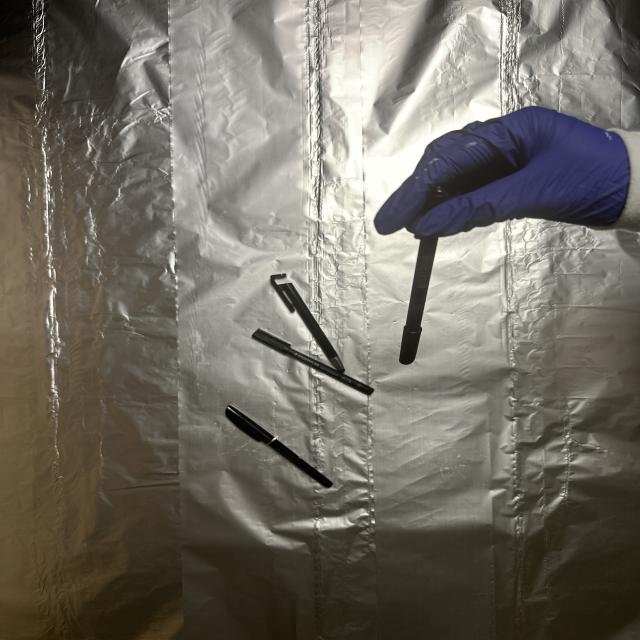gloves_contaminated: (374, 106, 631, 236)
